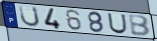4: (44, 7, 63, 30)
6: (65, 9, 84, 32)
8: (87, 11, 105, 34)
B: (128, 15, 152, 38)
U: (19, 5, 42, 28), (107, 13, 128, 35)
